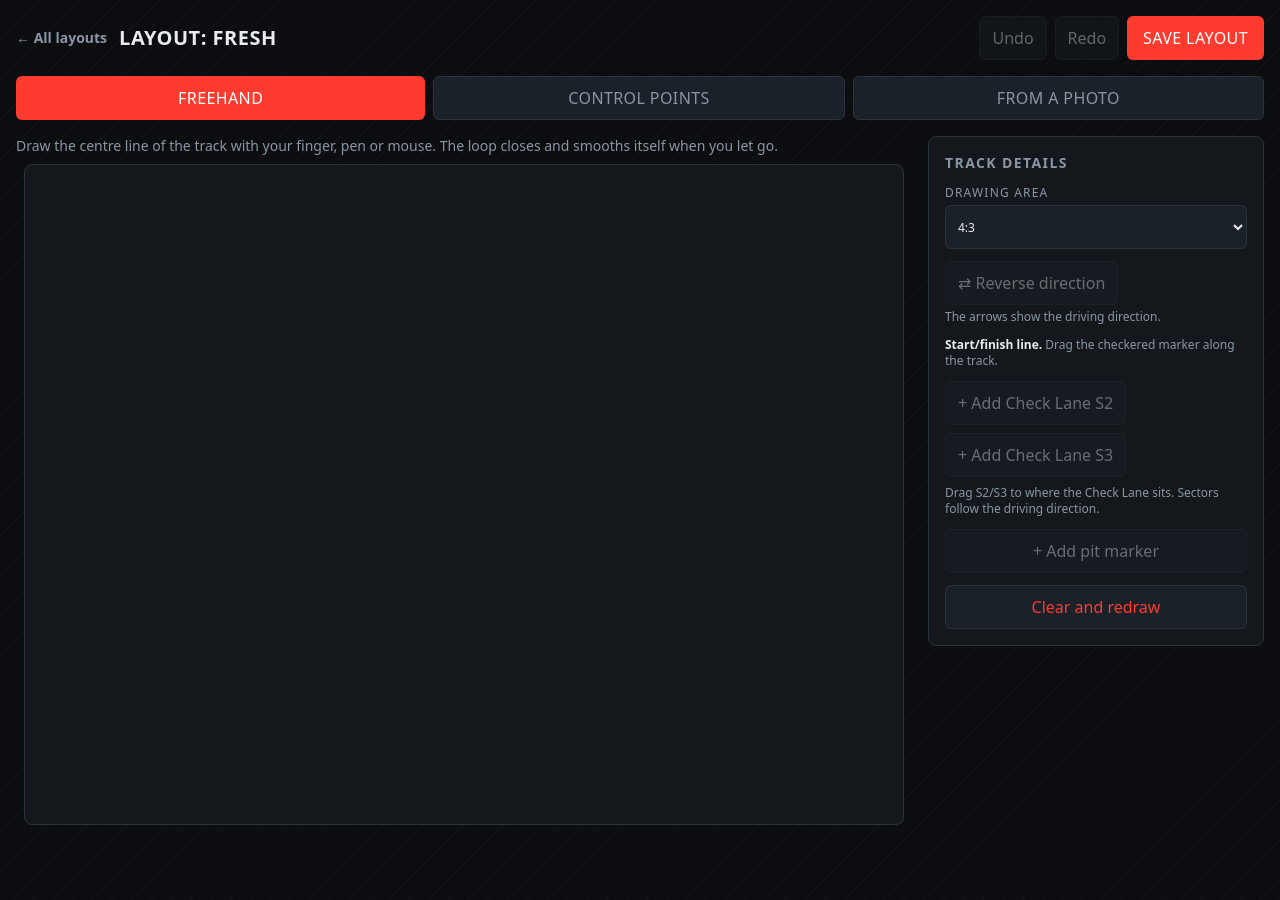
it: TrackEditor › turns a freehand stroke into a closed resampled path with handles
The width and height of the screenshot is (1280, 900).
Press the mouse on the icon with test id "track-canvas": (464, 494) 24,164 -> 904,824
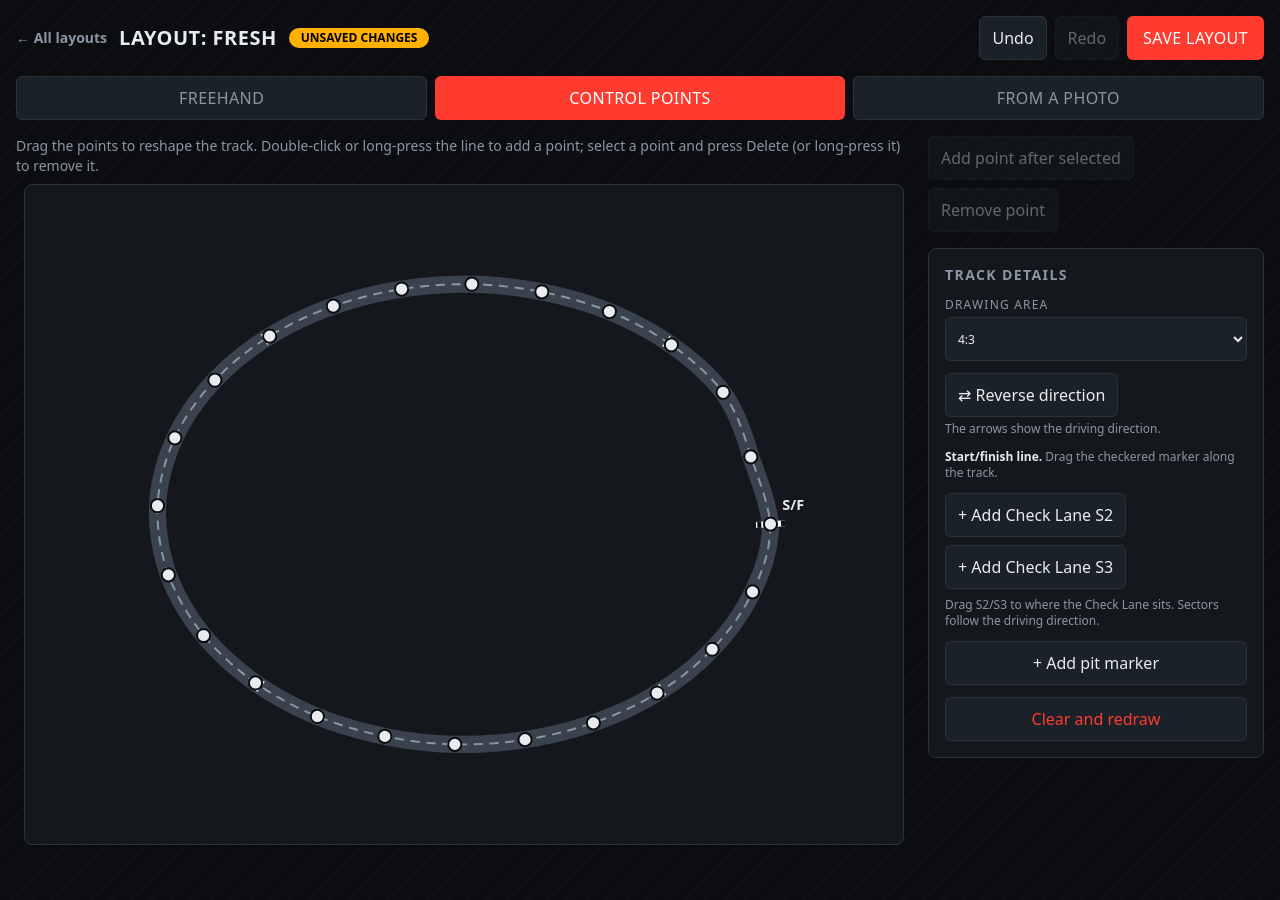
Check: the element with test id "handle-0" is shown, box 753,507 -> 788,541
Check: the text "Unsaved changes" is shown, box 289,28 -> 430,48
